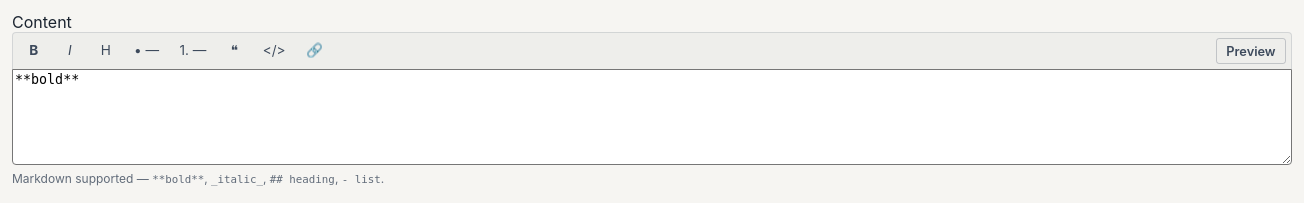
Test: MarkdownEditor › swaps the textarea for a rendered preview and back
Click the button "Preview". click: click(1251, 51)
box: 1216,38 -> 1286,64
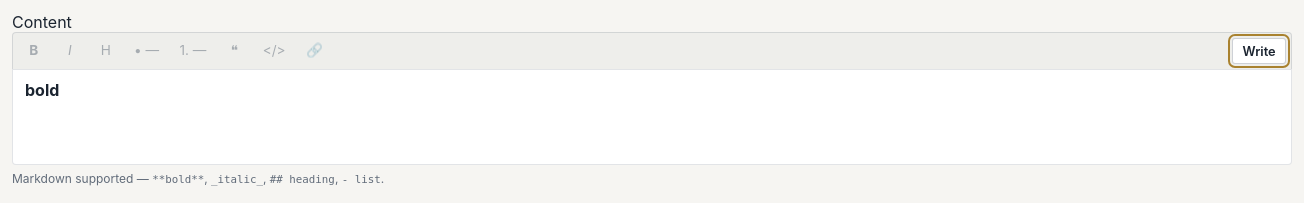
Click the button "Write". click: click(1259, 51)
box: 1232,38 -> 1286,64
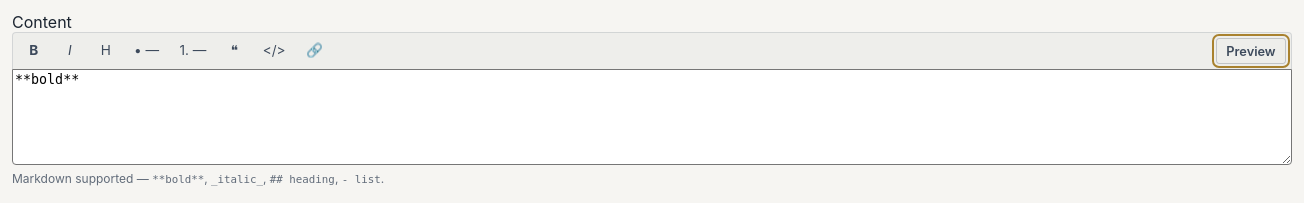
expect the text box labelled "Content" holds "**bold**": met, box 12,69 -> 1292,165
